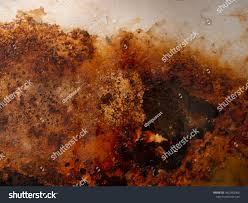rust: (1, 12, 247, 186)
